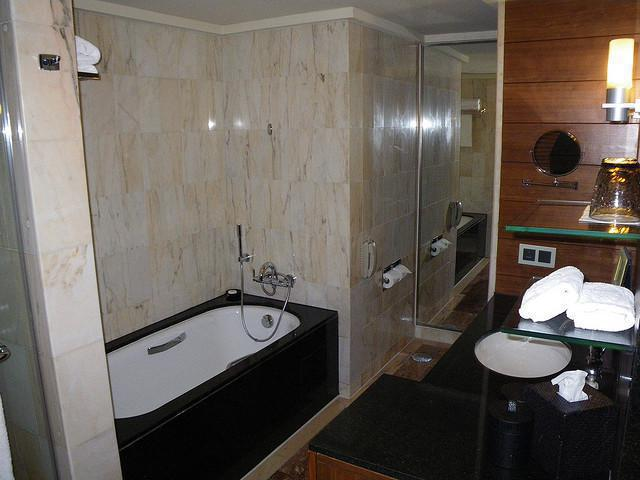Lavamanos: (469, 307, 619, 400)
